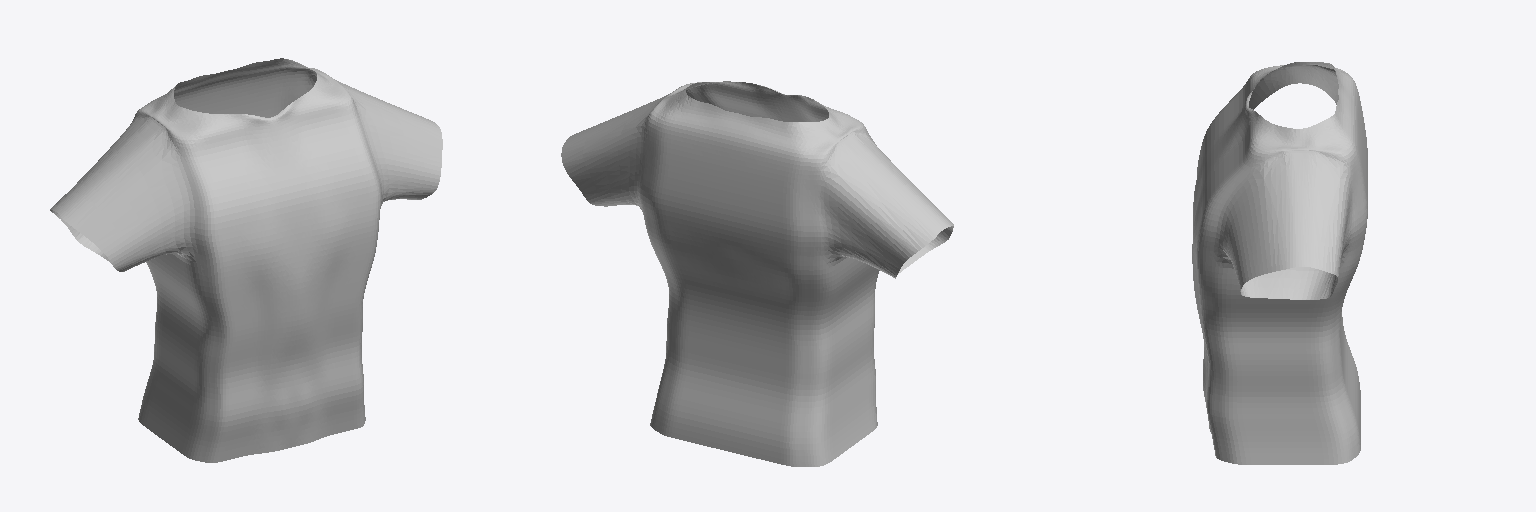
Rendered from shirttest.obj.
The picture shows the model from 3 angles: view 1: azimuth 30°, elevation 25°; view 2: azimuth 150°, elevation 25°; view 3: azimuth 270°, elevation 25°; orthographic projection.
Visible parts, largest first — view 1: Cube_Cube.002; view 2: Cube_Cube.002; view 3: Cube_Cube.002.
Boxes of the visible parts, x1=… form: Cube_Cube.002: x1=50, y1=58, x2=442, y2=462; Cube_Cube.002: x1=561, y1=81, x2=953, y2=466; Cube_Cube.002: x1=1192, y1=62, x2=1367, y2=464.
Bounding box in the file's own units: 0.7453 × 0.6267 × 0.3006.